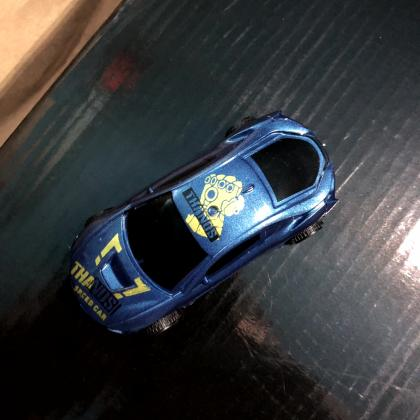Car: (68, 112, 337, 337)
